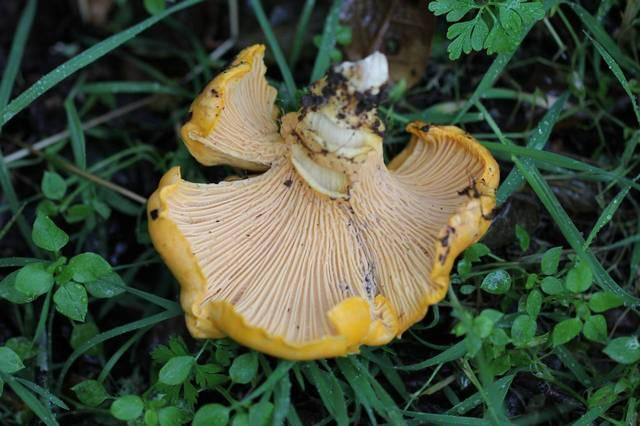edible_mushroom: (145, 42, 501, 361)
